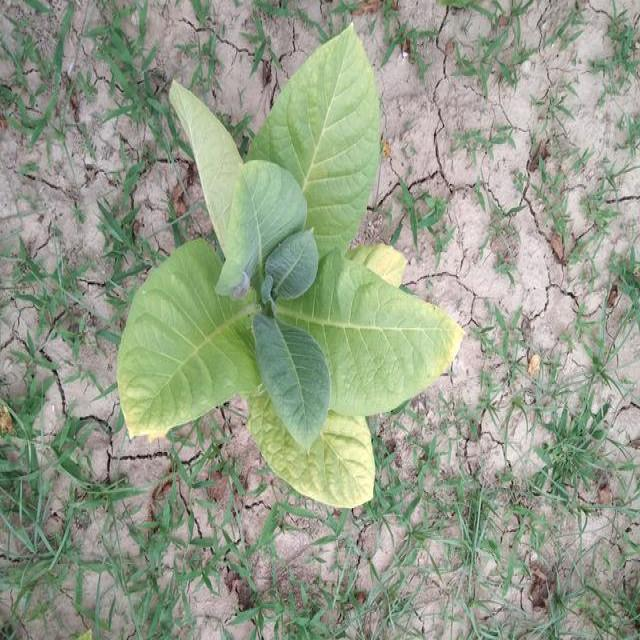crop: (118, 24, 470, 497)
